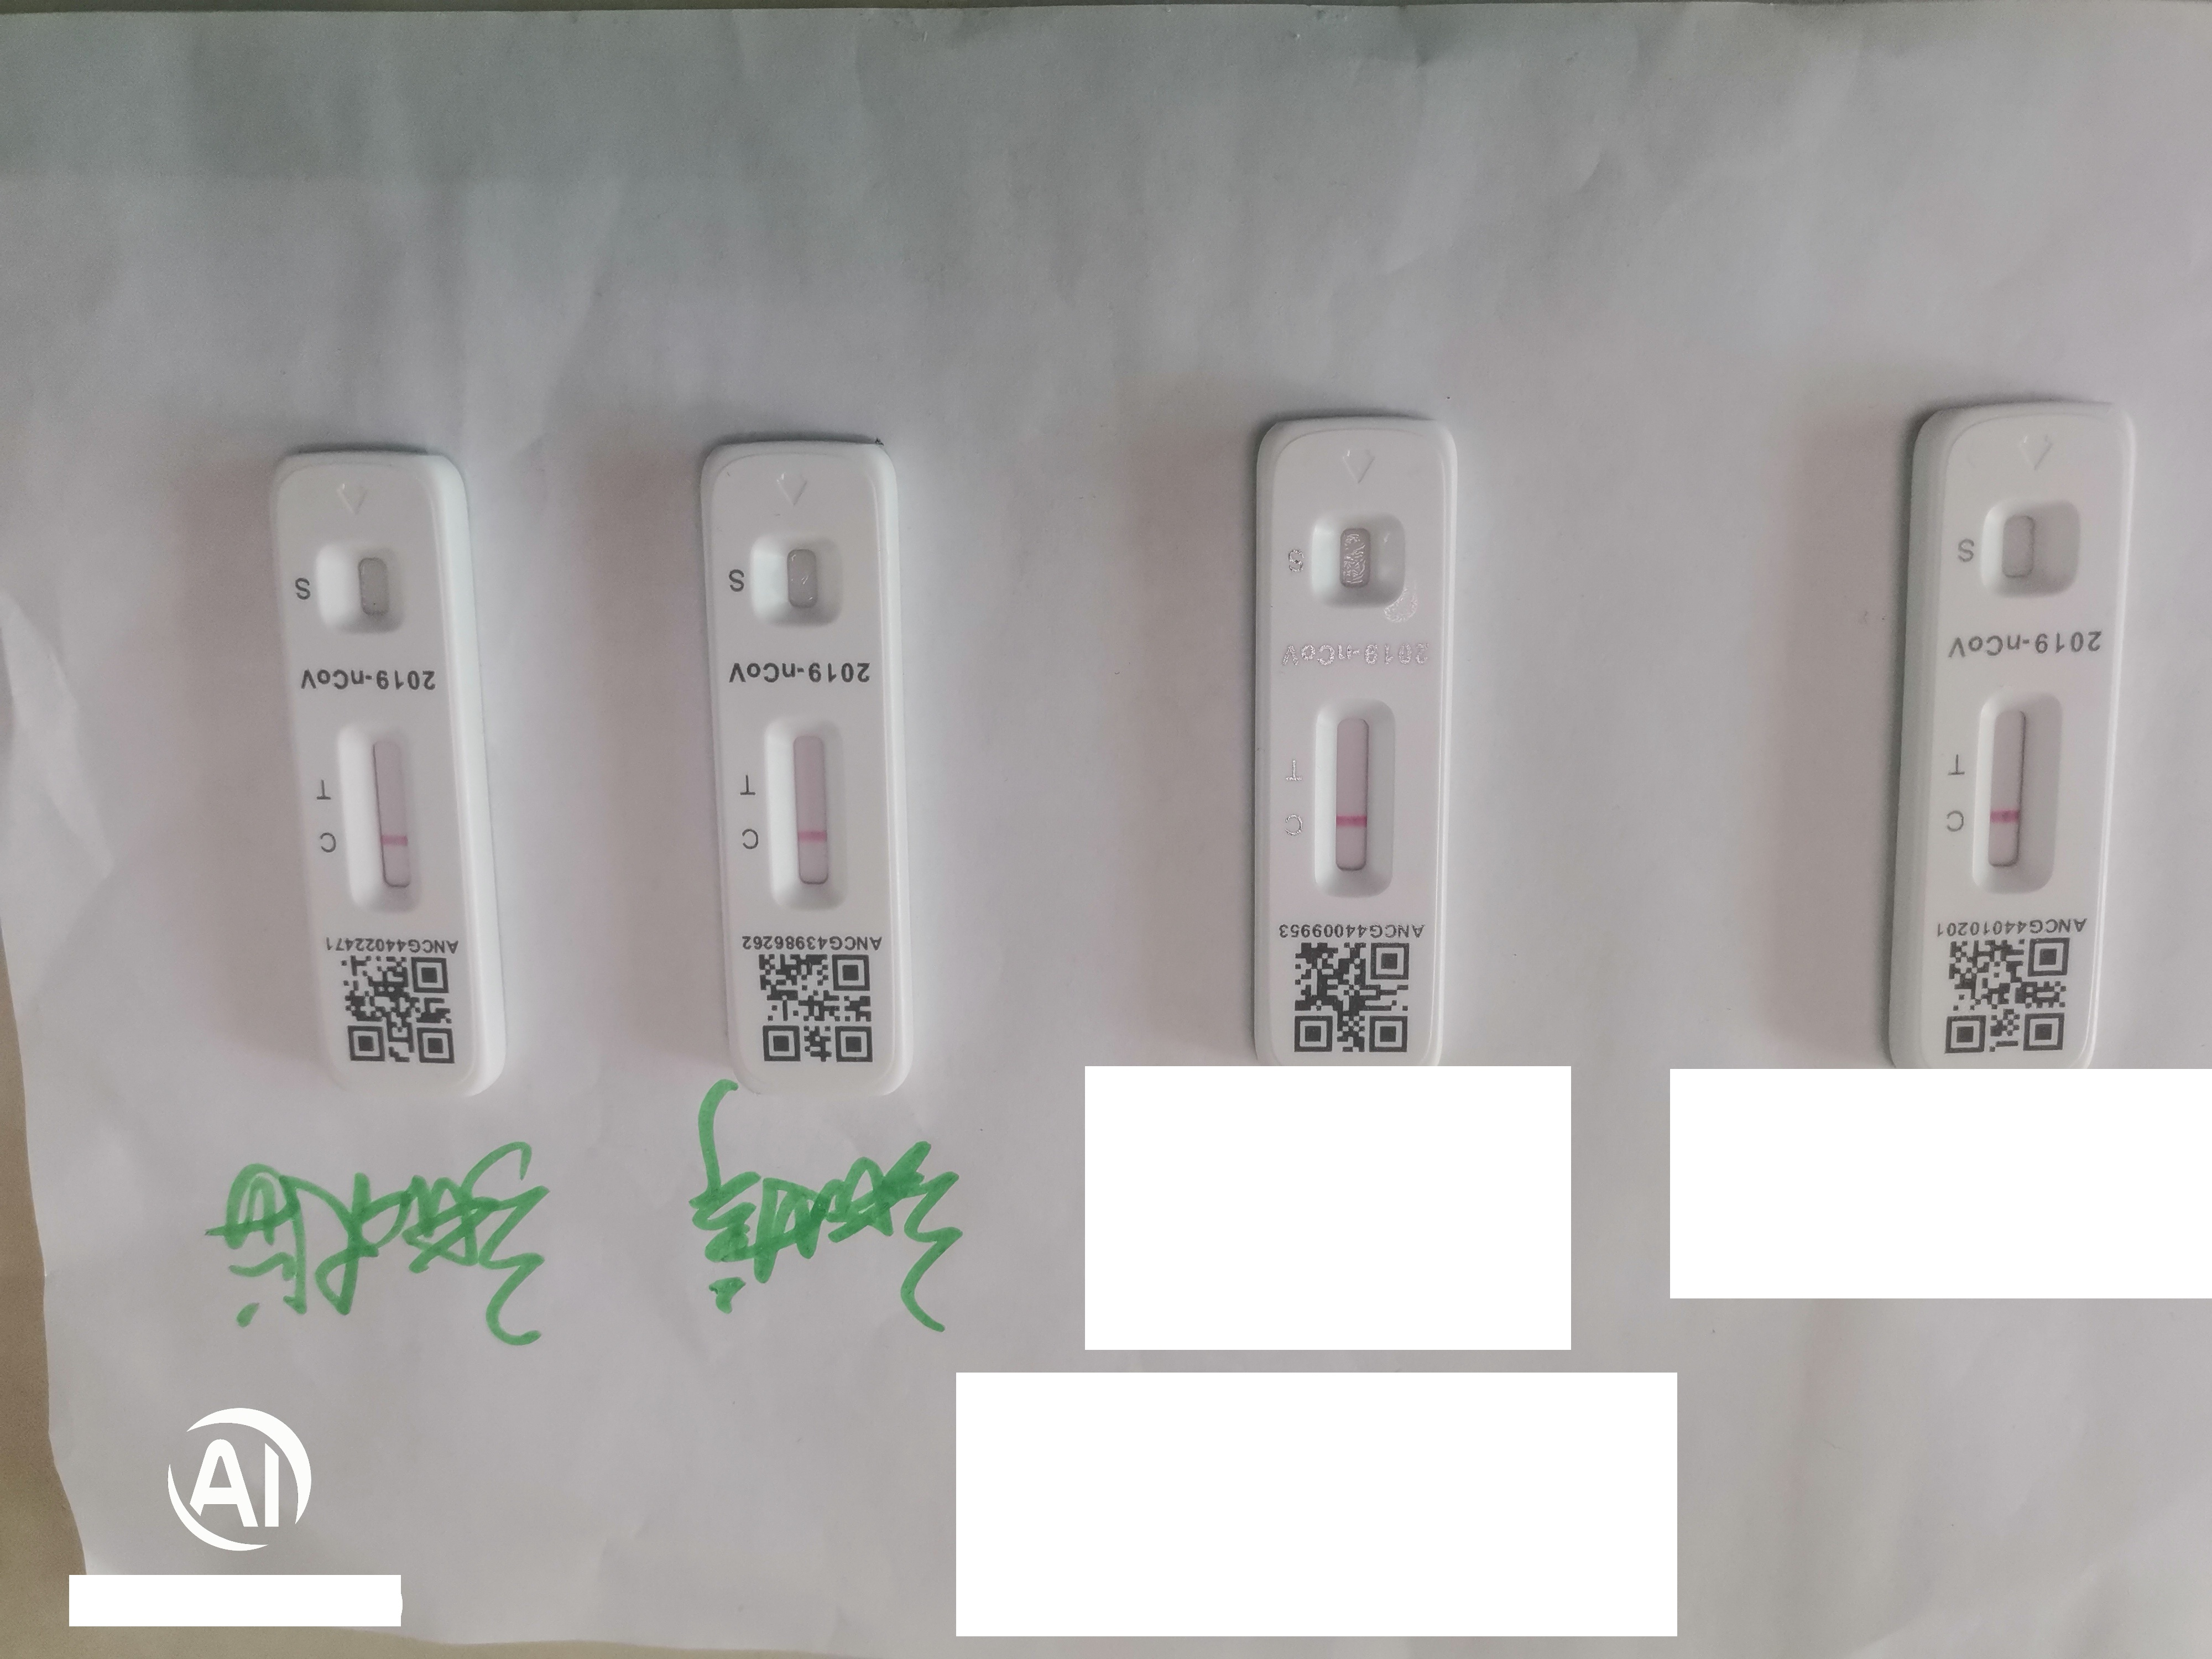negative: (1315, 697, 1393, 890), (772, 718, 845, 906), (357, 730, 418, 904)
